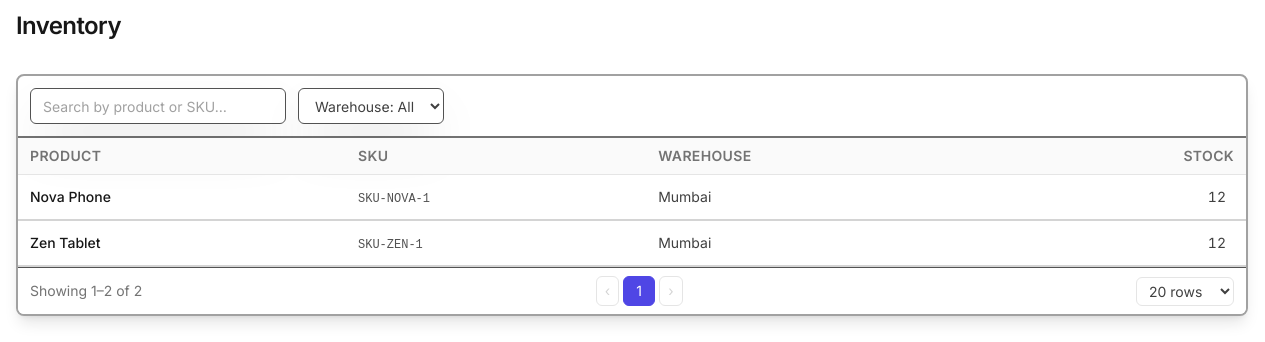
Test case: InventoryPage › searches by product/SKU keyword
The width and height of the screenshot is (1265, 342).
Check: the text "Nova Phone" is shown, box [30,188,111,205]
Type "zen" into the search field named "Search inventory". click: (158, 106)
box: [30,88,286,124]
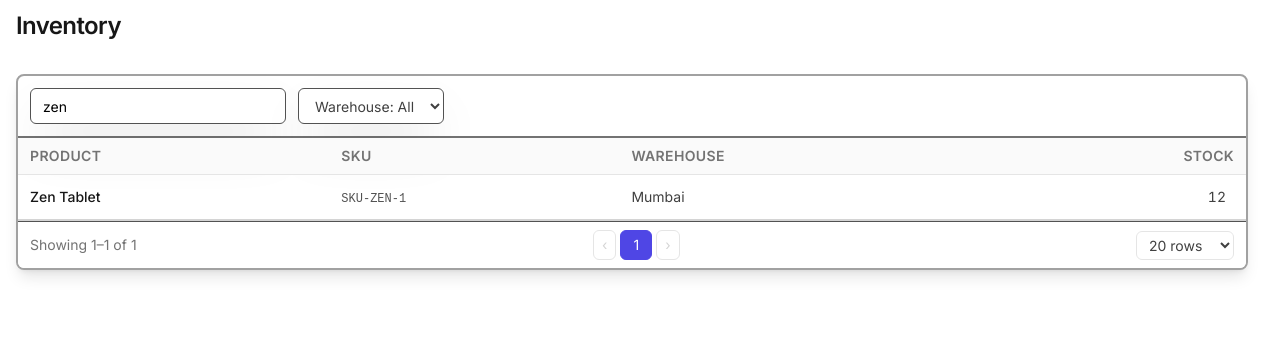
Check: the text "Zen Tablet" is shown, box [30,188,101,205]
Check: the text "Nova Phone" is gone
